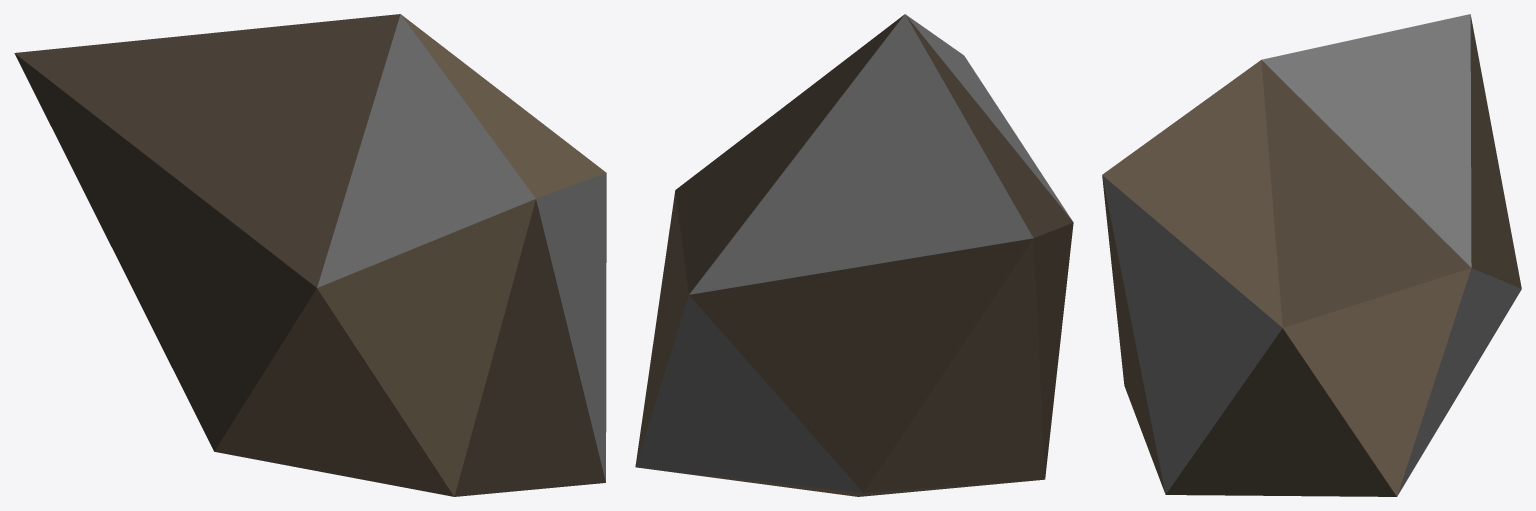
Rendered from rock 2.fbx.
3 views of the same model, side by side, from view 1: azimuth 30°, elevation 25°; view 2: azimuth 150°, elevation 25°; view 3: azimuth 270°, elevation 25° (orthographic). The views are drawn at different scales.
Parts seen in each view (by area): view 1: rock 2; view 2: rock 2; view 3: rock 2.
Part boxes in pixels (bbox=[...]): rock 2: bbox=[14, 14, 606, 496]; rock 2: bbox=[635, 14, 1073, 496]; rock 2: bbox=[1102, 14, 1521, 496].
Size of the model in its own units: 470 by 444 by 439.
